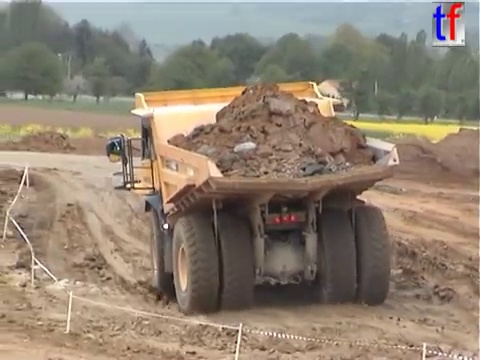truck: (103, 78, 403, 316)
